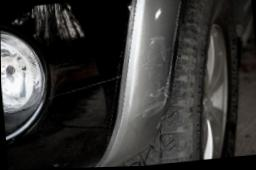Bumper: (6, 0, 194, 170)
